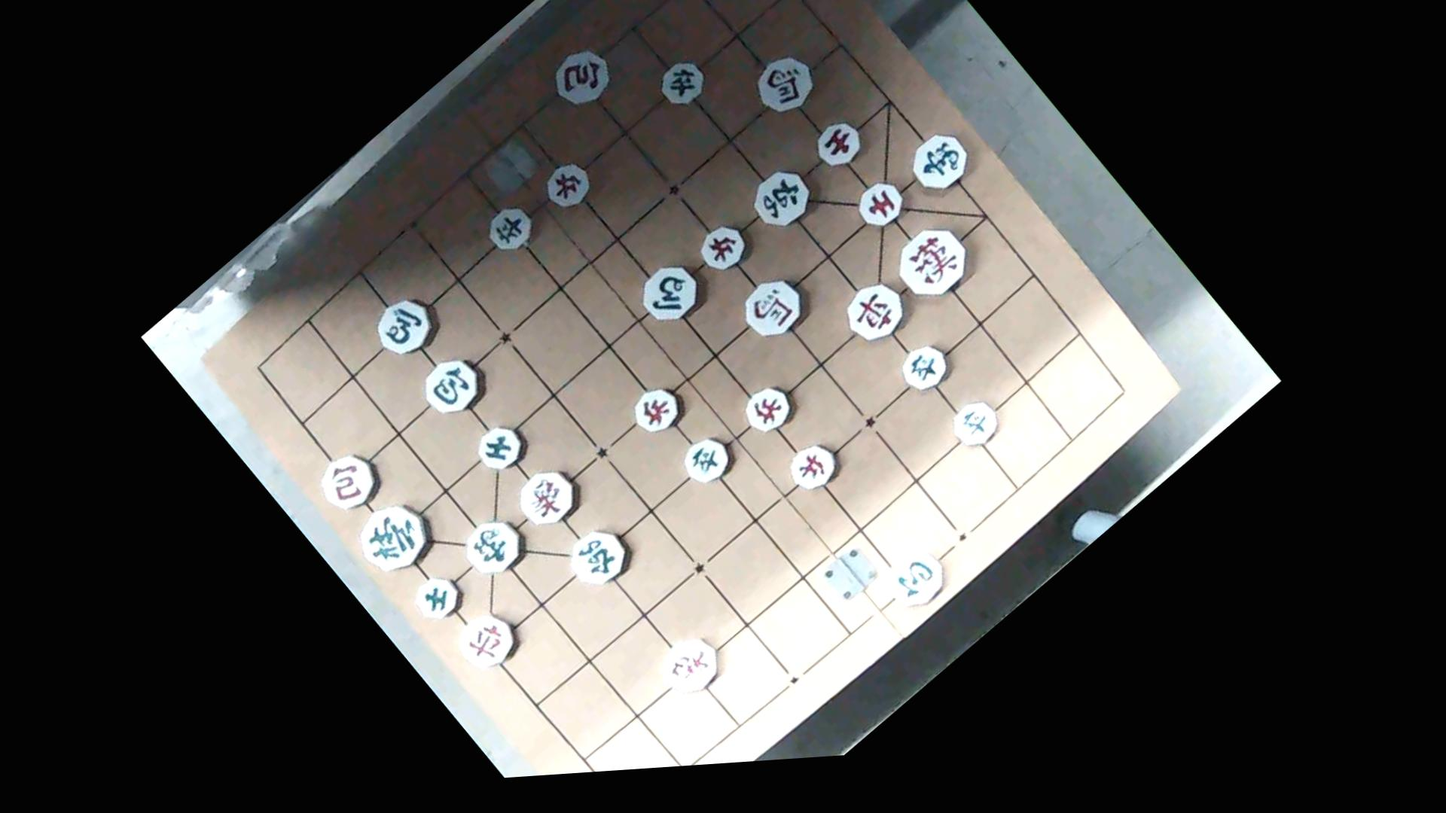cha_green: (741, 157, 822, 240), (559, 517, 634, 597)
cha_red: (834, 268, 917, 353), (450, 601, 520, 677)
jol_green: (891, 333, 958, 402), (673, 425, 739, 493), (479, 196, 541, 260), (946, 392, 1007, 456), (653, 53, 711, 112)
jol_red: (780, 431, 844, 500), (735, 374, 799, 441), (624, 376, 688, 443), (535, 153, 596, 216), (692, 215, 752, 277)
ma_green: (365, 285, 442, 367), (630, 253, 706, 330)
ma_red: (731, 264, 811, 348), (748, 41, 826, 122)
po_green: (876, 533, 957, 618), (413, 345, 490, 426)
po_red: (540, 32, 622, 117), (311, 443, 383, 517)
sa_green: (405, 562, 468, 629), (471, 416, 528, 477)
sa_red: (810, 113, 869, 175), (851, 172, 908, 230)
sang_green: (898, 121, 975, 200), (455, 508, 528, 584)
sang_red: (648, 622, 728, 706), (510, 459, 582, 534)
wang_green: (345, 486, 440, 586)
wang_red: (885, 212, 978, 308)
